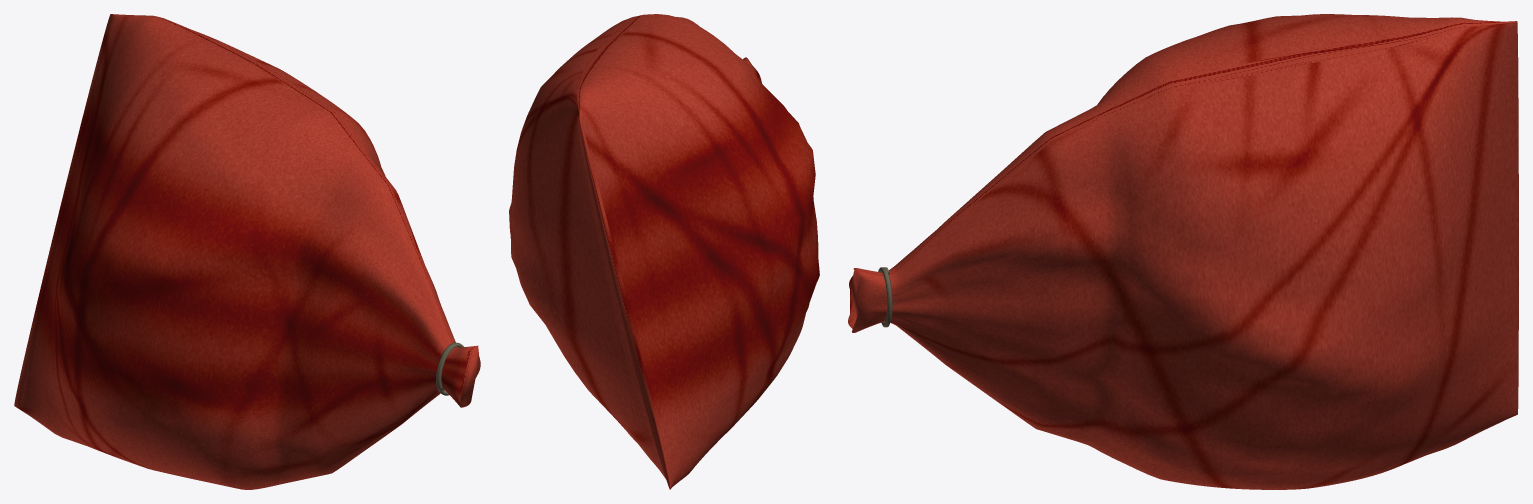
File: peach_01_033.glb
3 views of the same model, side by side, from view 1: azimuth 30°, elevation 25°; view 2: azimuth 150°, elevation 25°; view 3: azimuth 270°, elevation 25° (orthographic). The views are drawn at different scales.
Visible parts, largest first — view 1: export_Tree01/shoot3_6_1/bag; view 2: export_Tree01/shoot3_6_1/bag; view 3: export_Tree01/shoot3_6_1/bag.
Part boxes in pixels (x1,y1,x2,y2): export_Tree01/shoot3_6_1/bag: (14,14,480,489); export_Tree01/shoot3_6_1/bag: (509,14,819,489); export_Tree01/shoot3_6_1/bag: (848,14,1518,489).
Bounding box in the file's own units: 0.0932 × 0.1185 × 0.15.
Materials: 4 (1 with a texture image).
